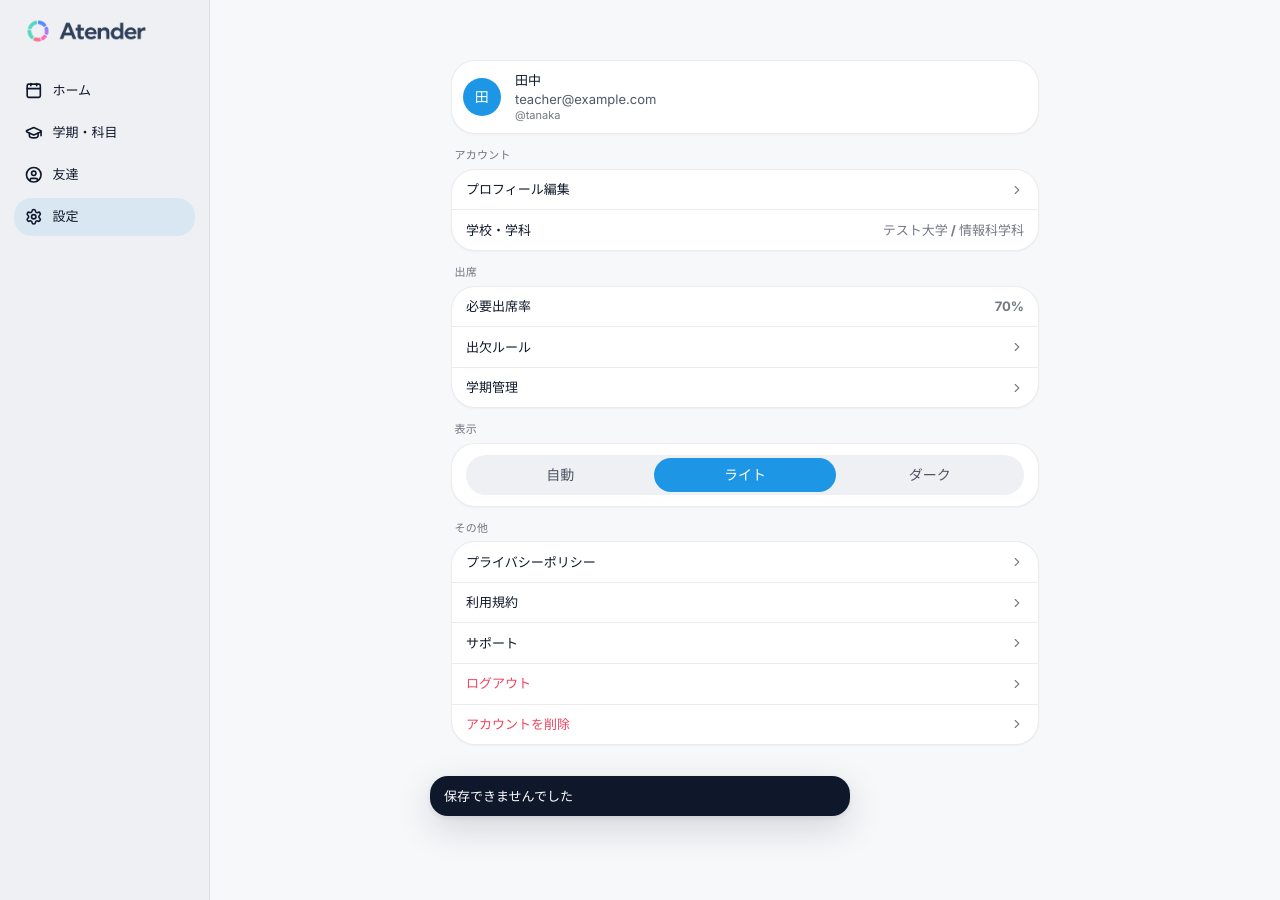
Test: [T] template browser (entry E1) › [T1] empty state
Click the button "学期管理" at (492, 387), box [452,368,1038,407]
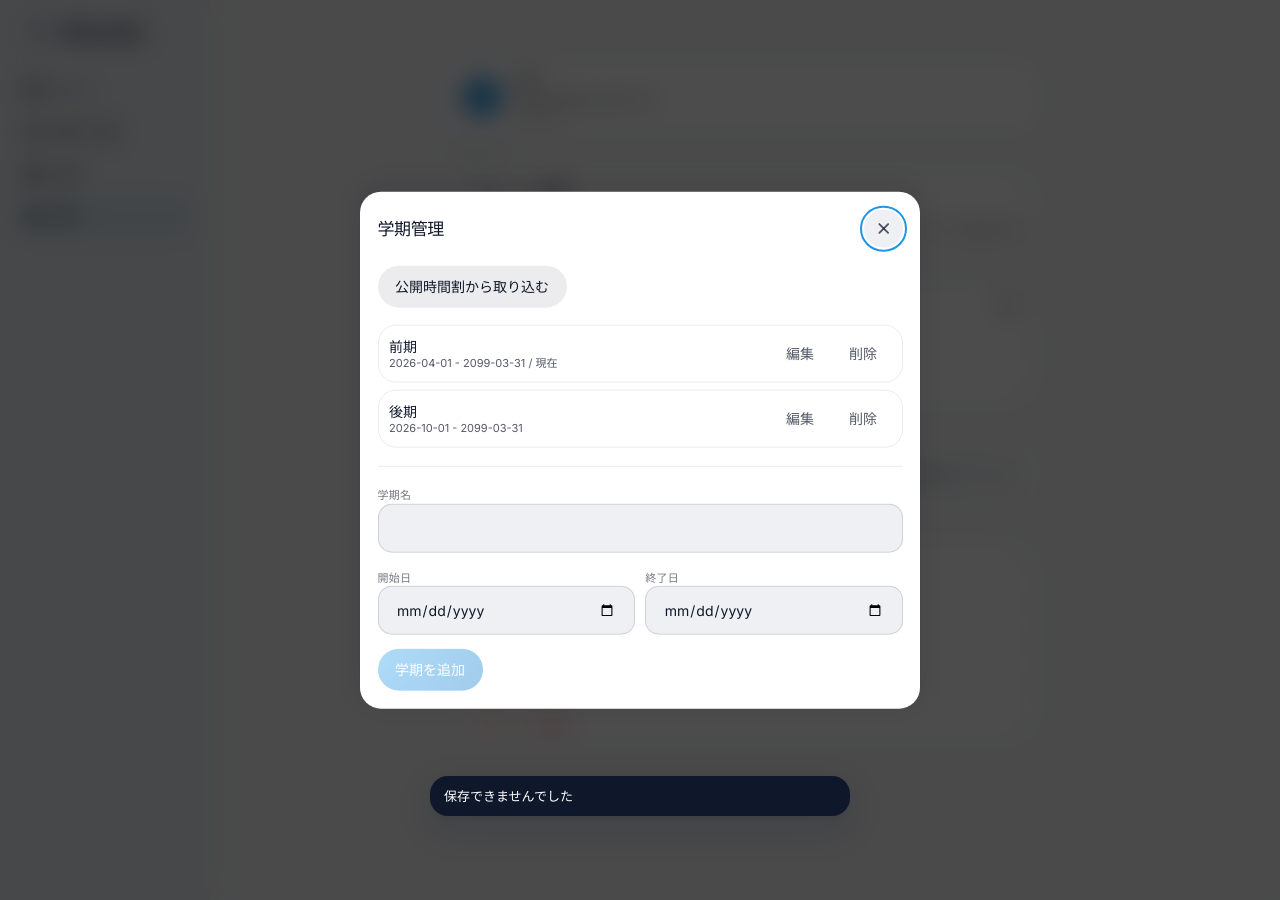
Expected: the button with test id "semester-list-import-template" is enabled
Click the button with test id "semester-list-import-template" at (472, 286), box [378,265,566,307]
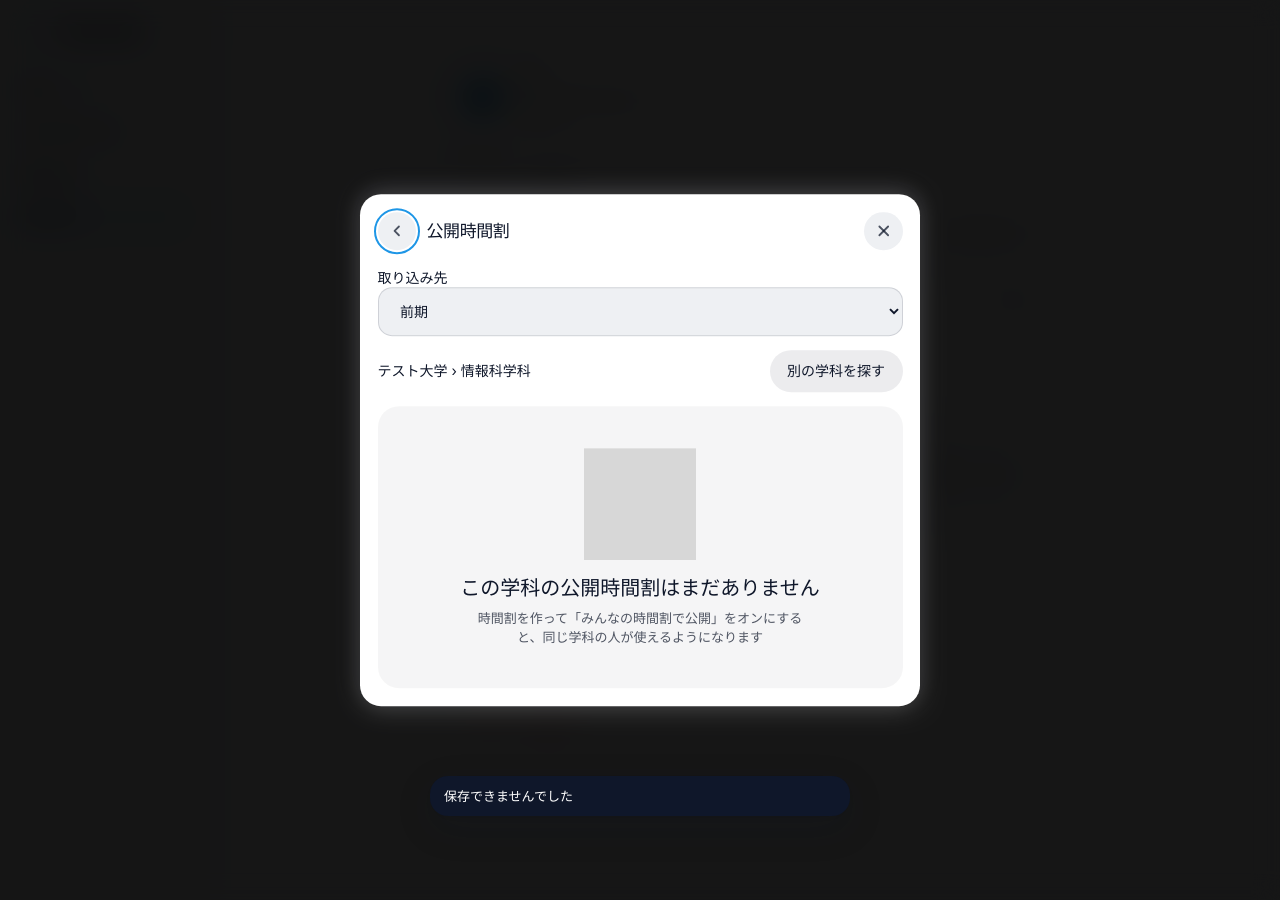
Expected: the heading "公開時間割" is shown, [426,218,509,244]
Expected: the text "この学科の公開時間割はまだありません" is shown, [460,574,820,602]
Expected: the text "時間割を作って「みんなの時間割で公開」をオンにすると、同じ学科の人が使えるようになります" is shown, [472,609,808,646]
